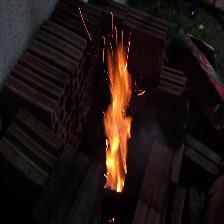fire: (99, 42, 136, 194)
